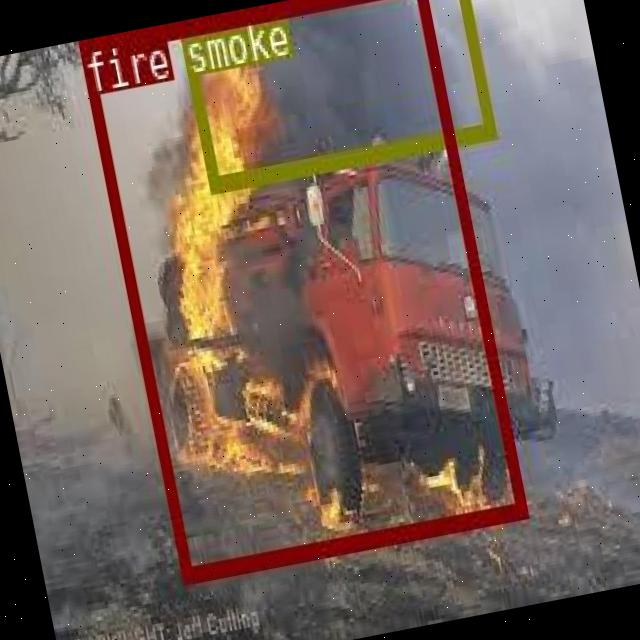fire: (76, 0, 526, 579)
smoke: (176, 0, 493, 188)
